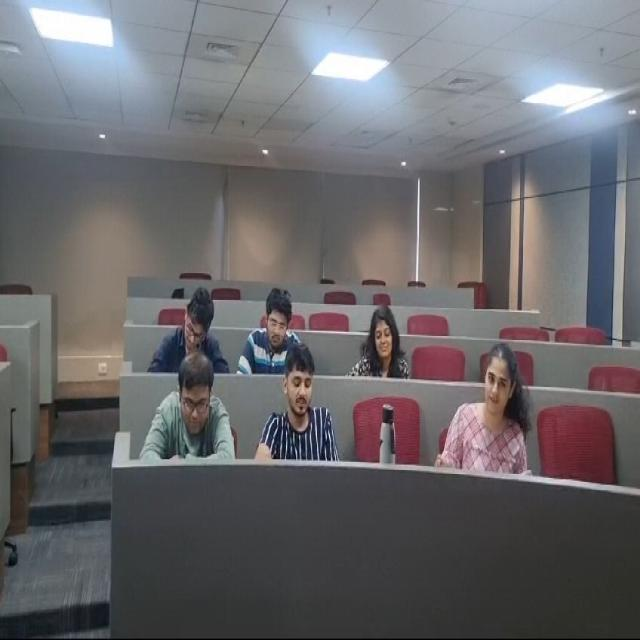cheating: (449, 331, 538, 468), (261, 341, 341, 463)
non-cheating: (159, 344, 235, 456), (160, 270, 231, 366), (248, 269, 318, 366), (352, 298, 408, 373)
